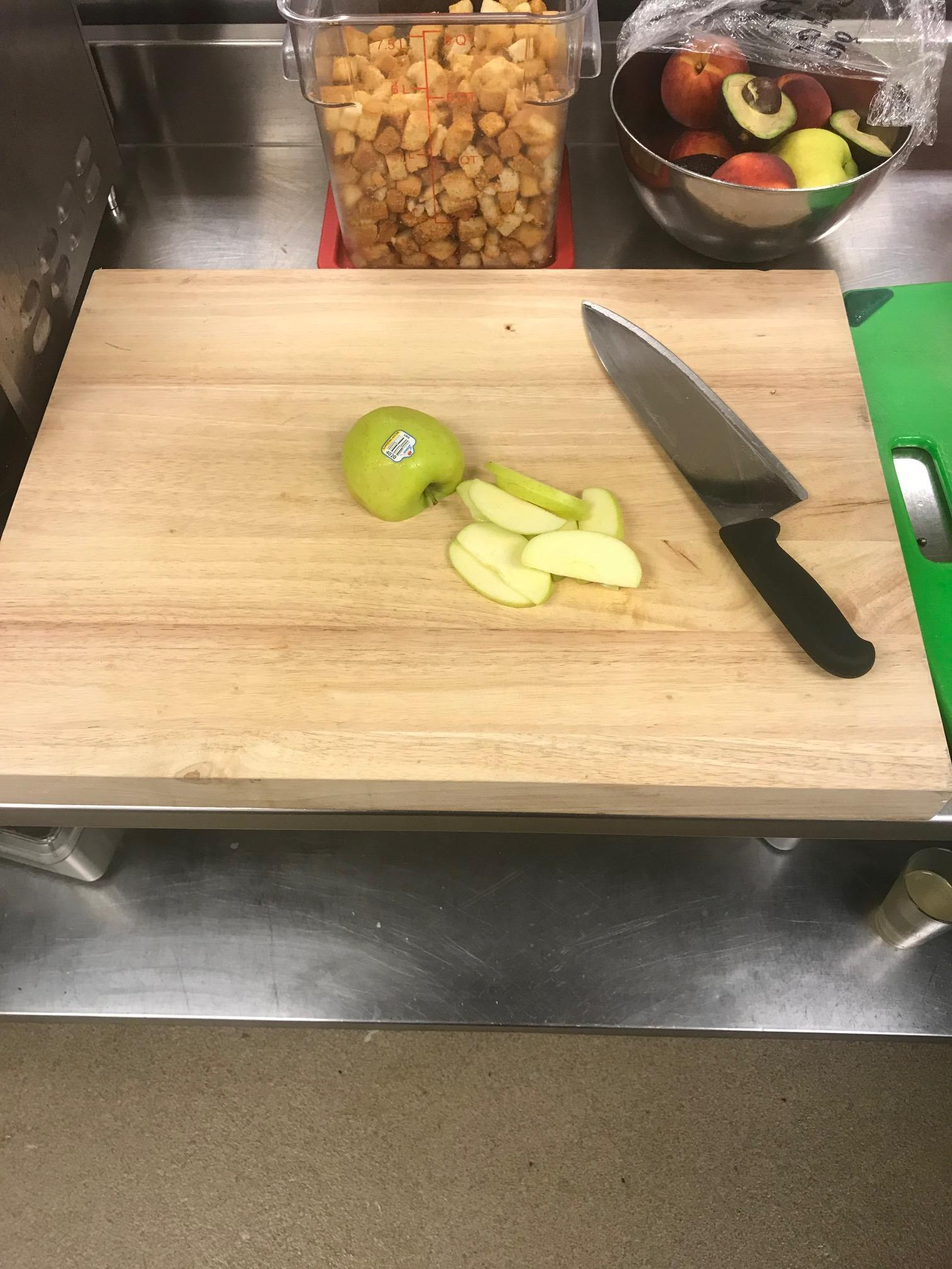gloved_hand: (7, 246, 952, 836)
